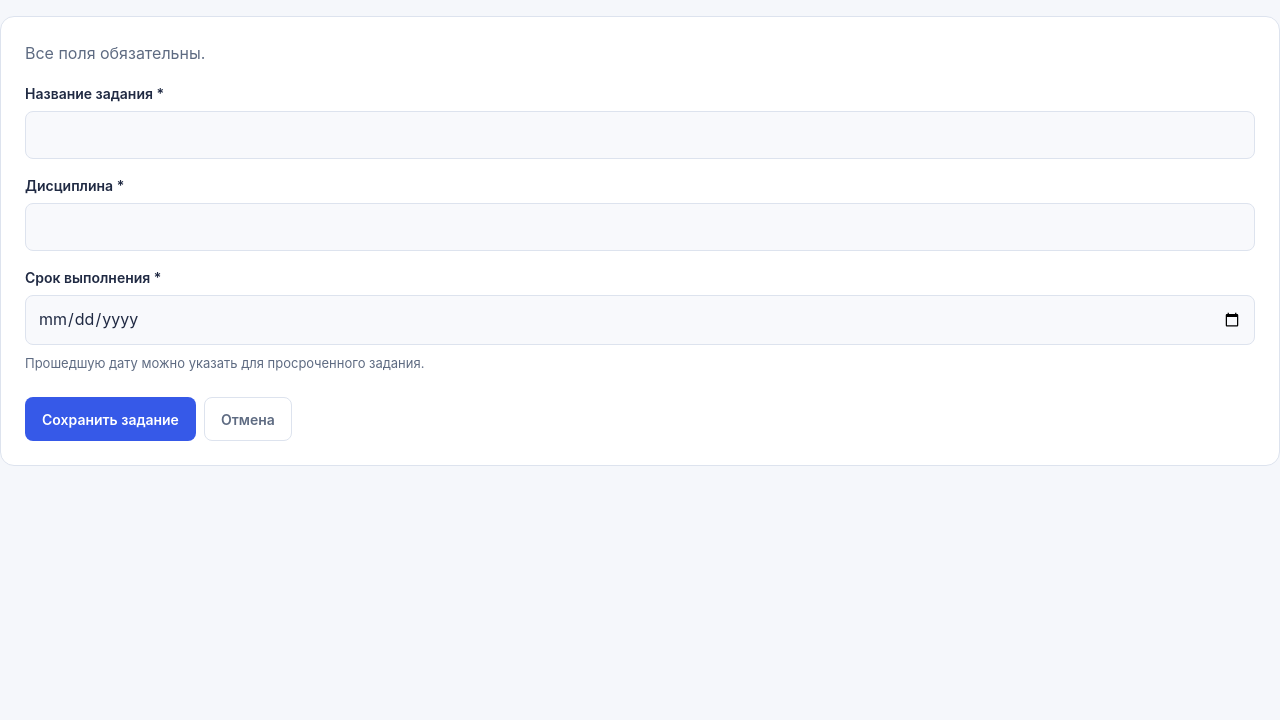
Test: FR-02: проверка полей формы › T01: показывает все обязательные поля и не отправляет пустую форму
Click the button "Сохранить задание" at [110, 419], box [25, 397, 196, 441]
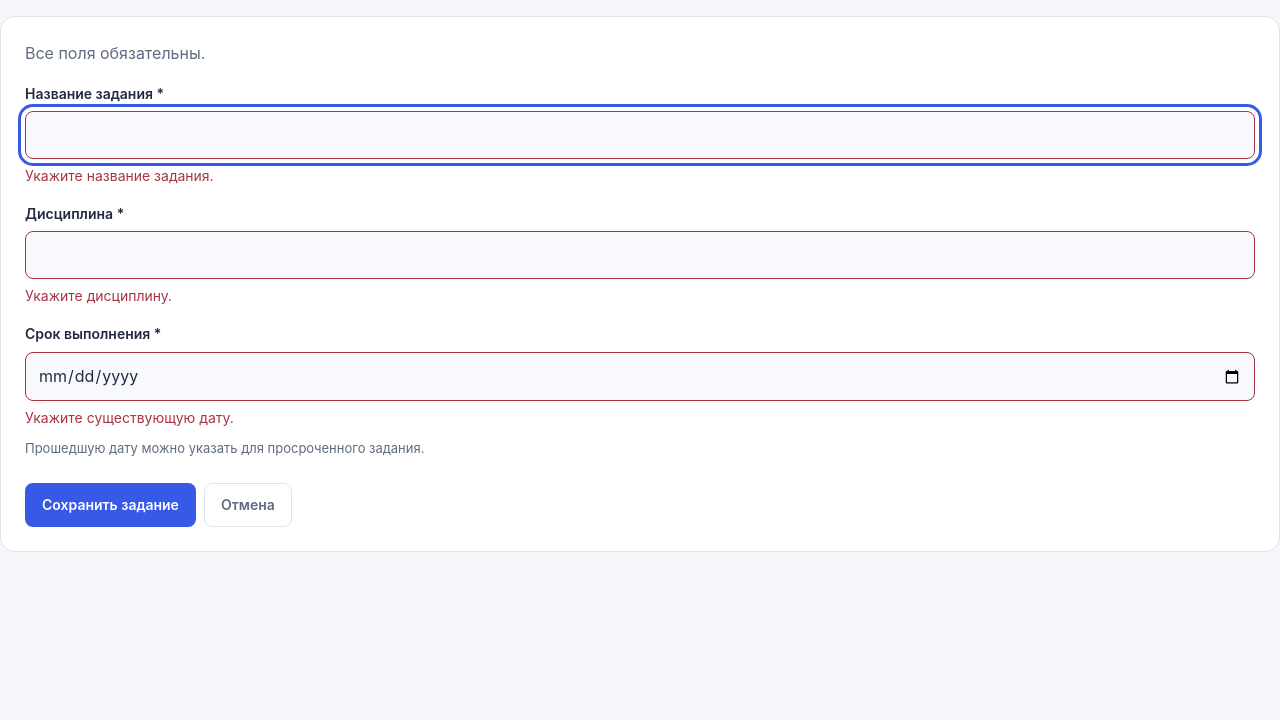
Result: the text "Укажите существующую дату." is shown at [25, 409, 234, 426]
